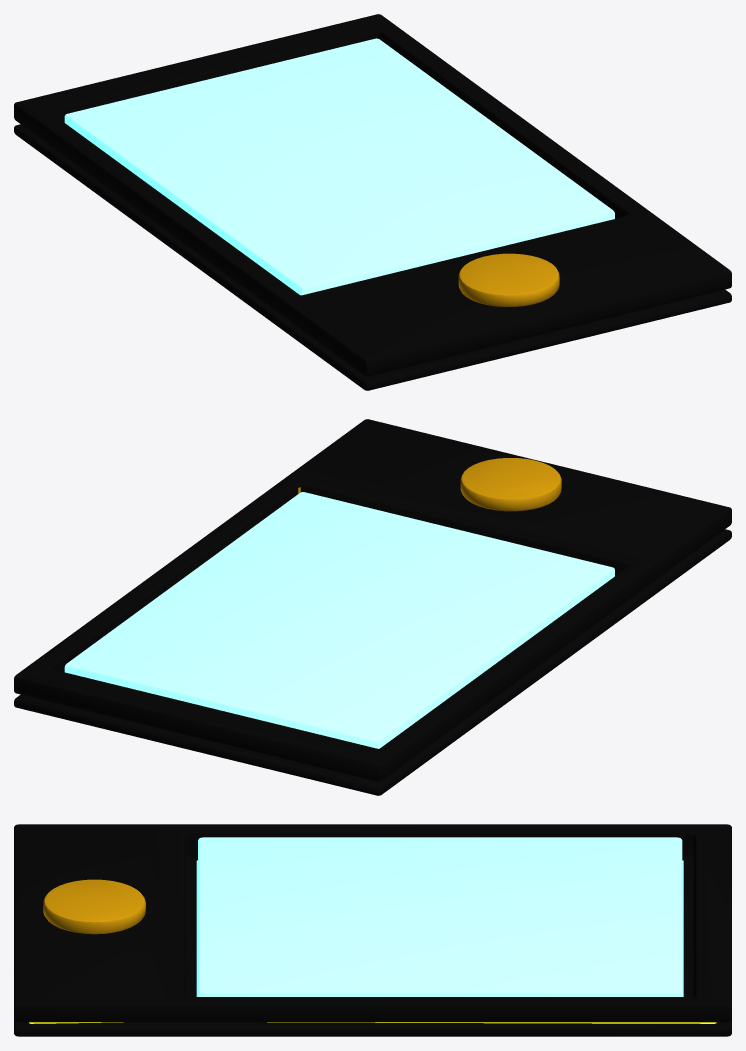
The model's file is tablette.fbx.
3 views of the same model, one above another, from view 1: azimuth 30°, elevation 25°; view 2: azimuth 150°, elevation 25°; view 3: azimuth 270°, elevation 25° (orthographic).
Visible parts, largest first — view 1: Plane; view 2: Plane; view 3: Plane.
Part boxes in pixels (x1,y1,x2,y2): Plane: (14, 14, 731, 390); Plane: (14, 419, 731, 795); Plane: (14, 824, 731, 1036).
Size of the model in its own units: 60 by 7.1 by 100.
